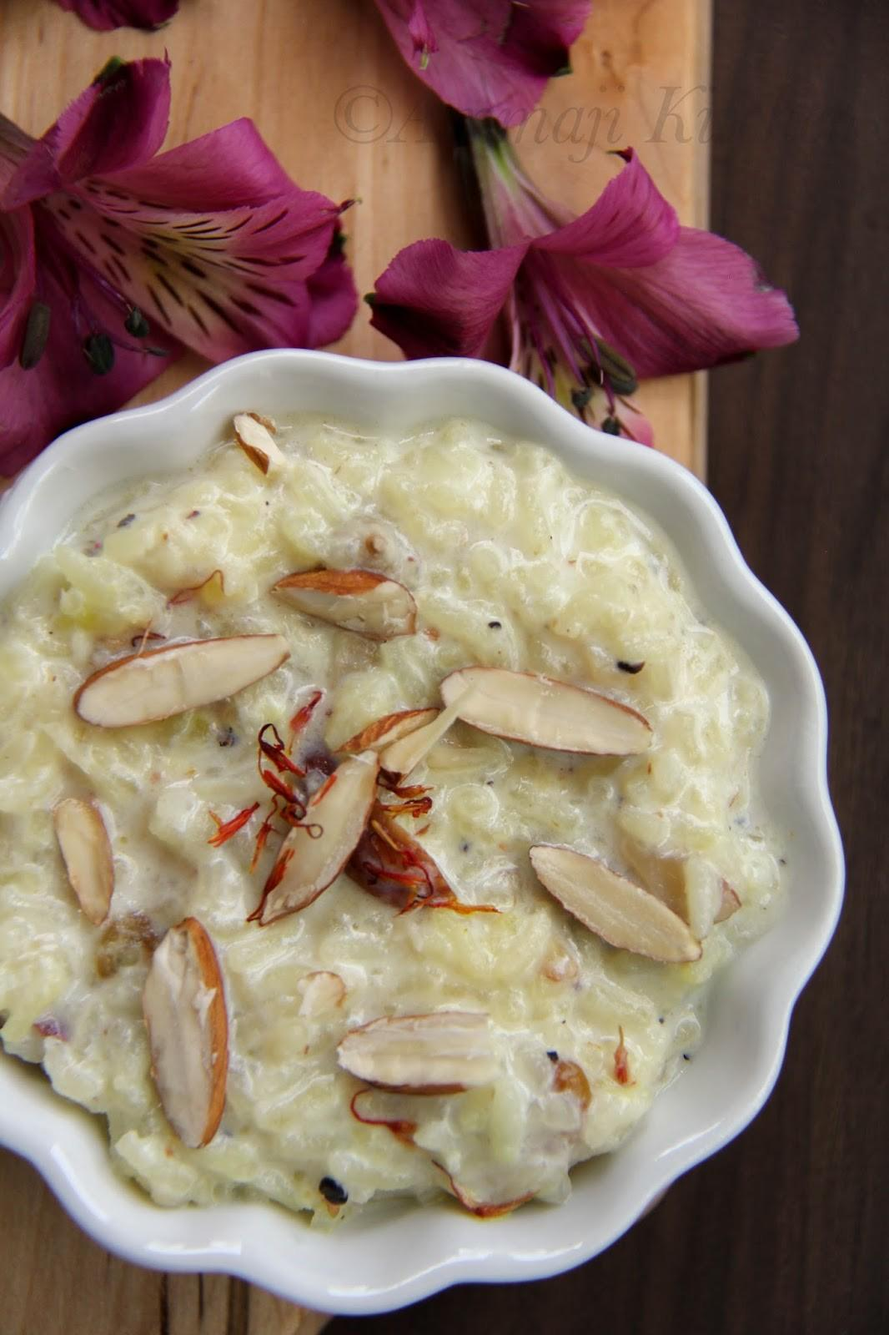Kheer: (0, 414, 774, 1222)
